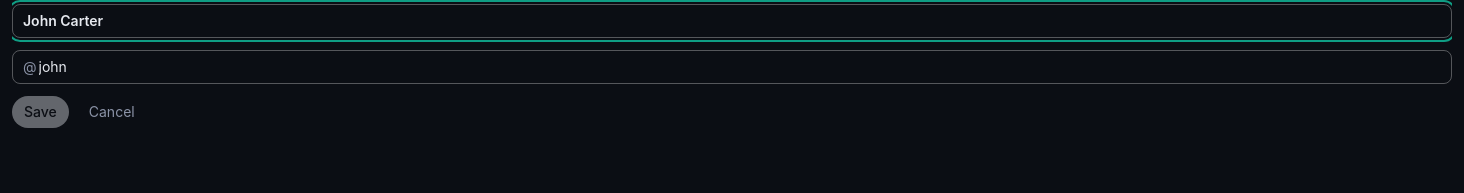
Test: ProfileEditForm › surfaces the 409 taken-username case inline
Replace the text in the field with test id "profile-edit-username-input" with "maria" at [739, 67], box [36, 51, 1441, 83]
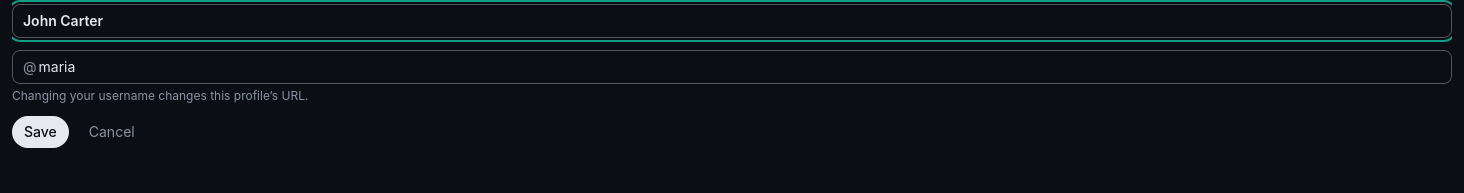
Click the button with test id "profile-edit-save" at [40, 132], box [12, 116, 69, 148]
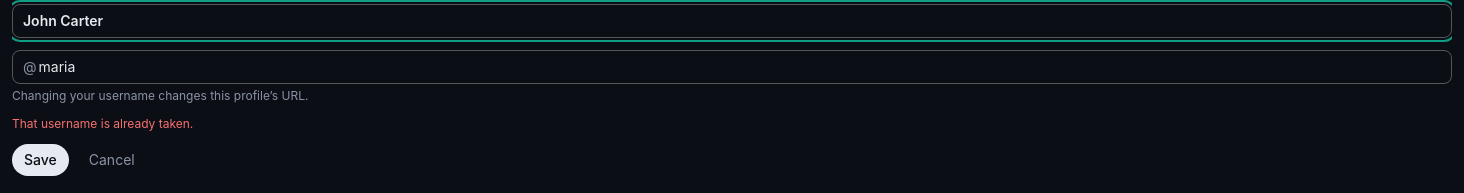
Check: the message with test id "profile-edit-error" shows "already taken", box [12, 116, 193, 131]
